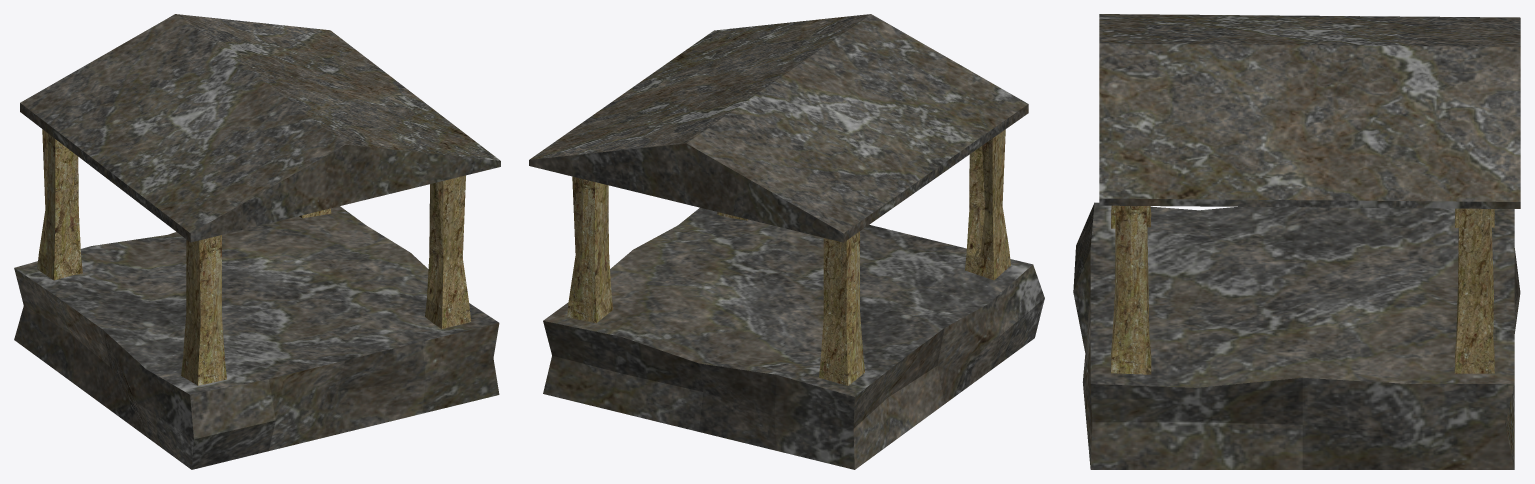
Rendered from pavillion.fbx.
The picture shows the model from 3 angles, left to right: view 1: azimuth 30°, elevation 25°; view 2: azimuth 150°, elevation 25°; view 3: azimuth 270°, elevation 25°; orthographic projection. The views are drawn at different scales.
Parts seen in each view (by area): view 1: Cube, Cube.005, Cube.003, Cube.004, Cube.002; view 2: Cube, Cube.005, Cube.002, Cube.001, Cube.003; view 3: Cube, Cube.005, Cube.001, Cube.004.
Part boxes in pixels (<box>): Cube: <box>14,206,499,469</box>; Cube.005: <box>20,14,500,242</box>; Cube.003: <box>181,235,226,385</box>; Cube.004: <box>425,175,471,328</box>; Cube.002: <box>37,129,82,280</box>; Cube: <box>543,207,1044,469</box>; Cube.005: <box>529,14,1028,242</box>; Cube.002: <box>819,231,864,385</box>; Cube.001: <box>567,176,613,323</box>; Cube.003: <box>965,129,1010,280</box>; Cube: <box>1073,202,1520,469</box>; Cube.005: <box>1099,14,1520,208</box>; Cube.001: <box>1454,208,1494,373</box>; Cube.004: <box>1111,205,1151,374</box>.
Bounding box in the file's own units: 458 × 379 × 453.
